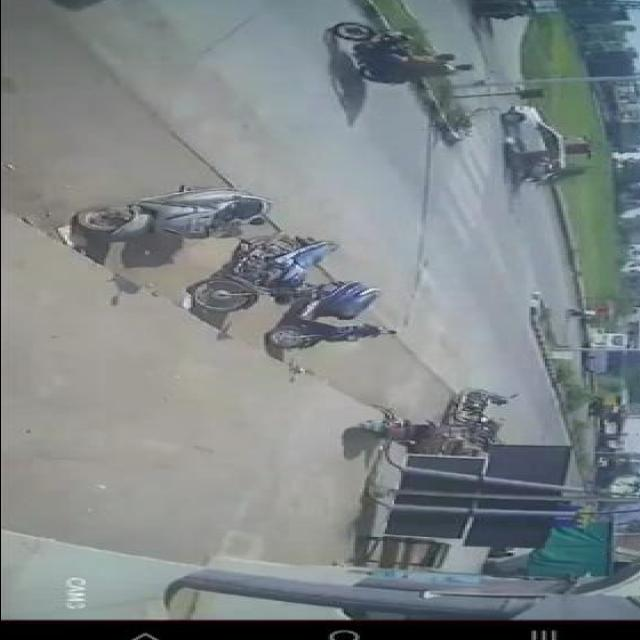accident: (482, 103, 576, 193)
